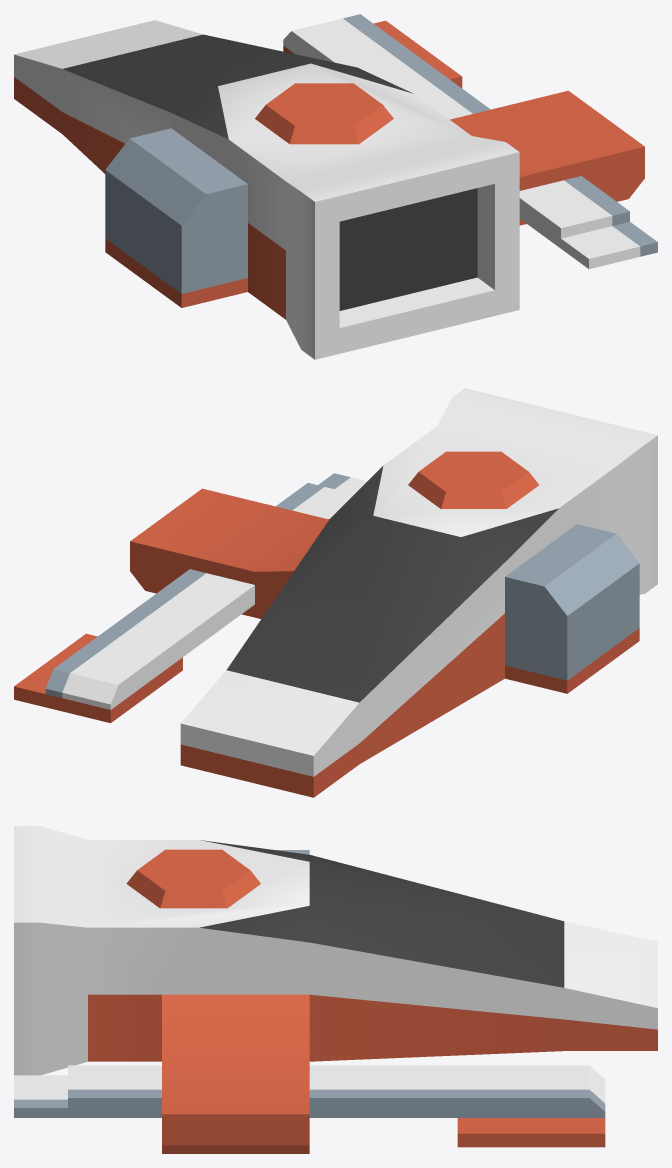
Rendered from spaceCraft5.fbx.
3 views of the same model, one above another, from view 1: azimuth 30°, elevation 25°; view 2: azimuth 150°, elevation 25°; view 3: azimuth 270°, elevation 25° (orthographic). The views are drawn at different scales.
Visible parts, largest first — view 1: spaceCraft5; view 2: spaceCraft5; view 3: spaceCraft5.
Boxes of the visible parts, x1,y1,x2,y2 form: spaceCraft5: (14, 14, 657, 359); spaceCraft5: (14, 388, 657, 797); spaceCraft5: (14, 826, 657, 1153).
Bounding box in the file's own units: 13.82 × 4.63 × 17.2.
